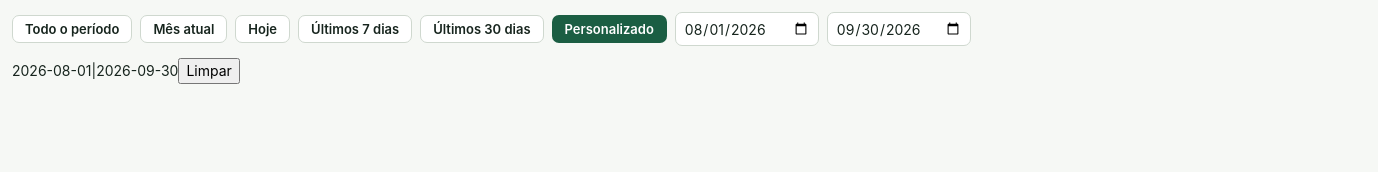
Test: DateRangeFilter — data digitada › período invertido: a recusa aparece depois da pausa, e nenhuma consulta sai
Type "2026-10-15" into the 1st date field named "Data inicial".
click(747, 29); type("2026-10-15")  # box [675,12,819,46]
Wait 300 ms
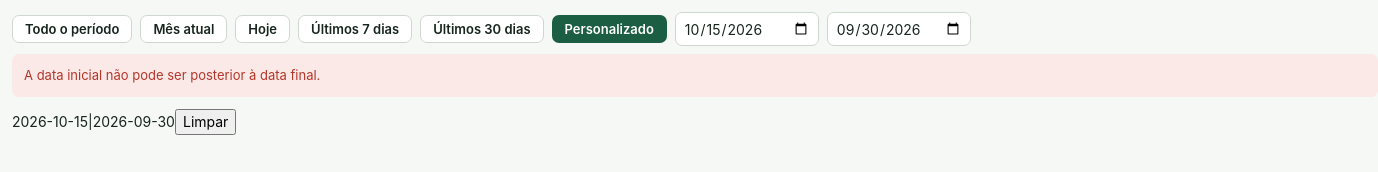
Expected: the message "A data inicial não pode ser posterior à data final." is shown, [12,54,1377,97]
